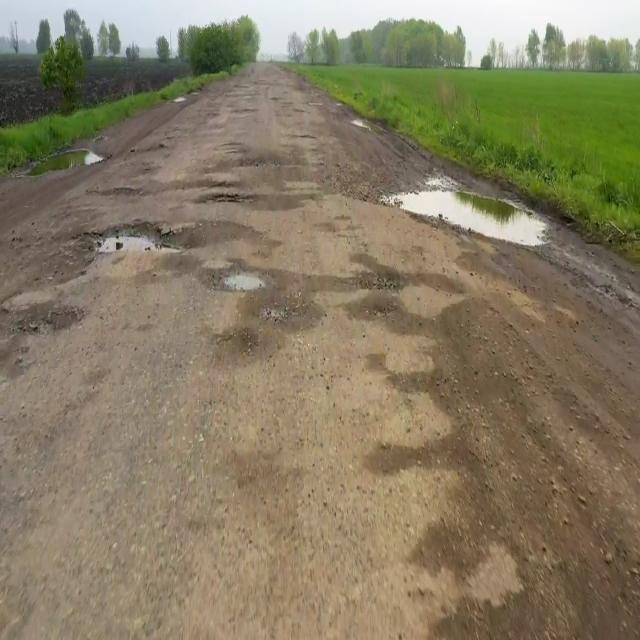road-pothole: (383, 169, 552, 251), (79, 223, 195, 257), (15, 145, 111, 173), (221, 270, 266, 306), (206, 193, 248, 204)
